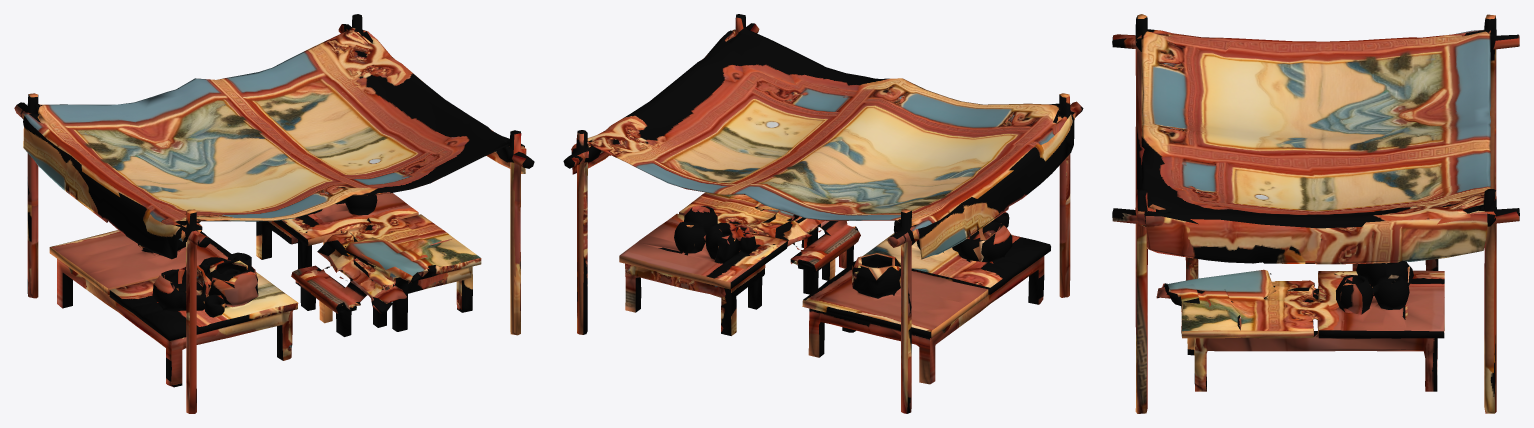
Rendered from MDL_Environment_Other_Canopy1_Canopy1.fbx.
The picture shows the model from 3 angles, left to right: view 1: azimuth 30°, elevation 25°; view 2: azimuth 150°, elevation 25°; view 3: azimuth 270°, elevation 25°; orthographic projection. The views are drawn at different scales.
Visible parts, largest first — view 1: Mesh1.0; view 2: Mesh1.0; view 3: Mesh1.0.
Part boxes in pixels (box(x1,y1,x2,y2)): Mesh1.0: box(14, 14, 534, 413); Mesh1.0: box(563, 14, 1083, 413); Mesh1.0: box(1112, 14, 1519, 413).
Size of the model in its own units: 191 by 104 by 174.
